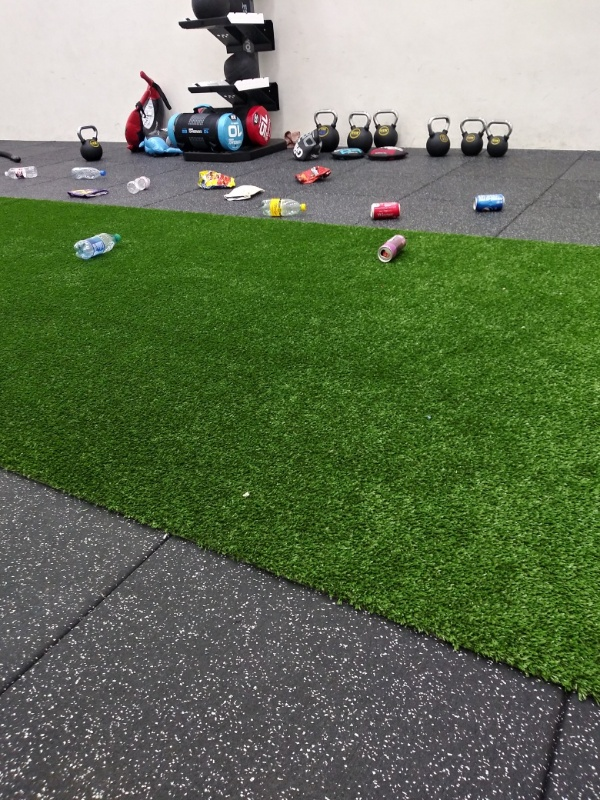bag: (223, 178, 262, 205), (191, 168, 238, 190), (294, 162, 335, 187), (63, 185, 109, 200)
bottle: (69, 229, 126, 263), (256, 194, 310, 220), (66, 163, 110, 182), (2, 163, 43, 182), (124, 173, 155, 198)
can: (368, 228, 410, 267), (469, 192, 510, 216), (367, 198, 403, 222)
